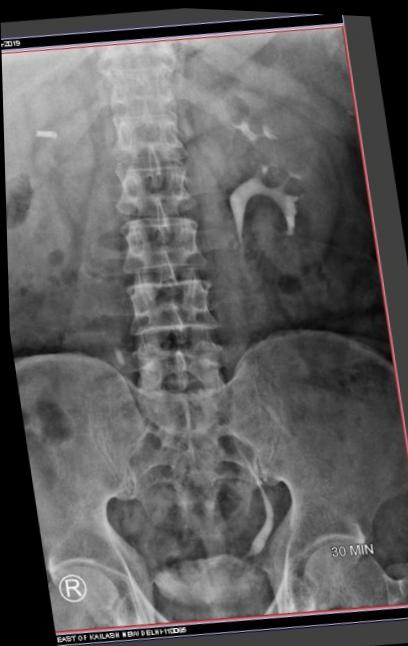bladder: (152, 562, 290, 645)
left kidney: (211, 31, 390, 283)
right kidney: (2, 80, 99, 296)
vertebrae: (114, 72, 205, 144)
